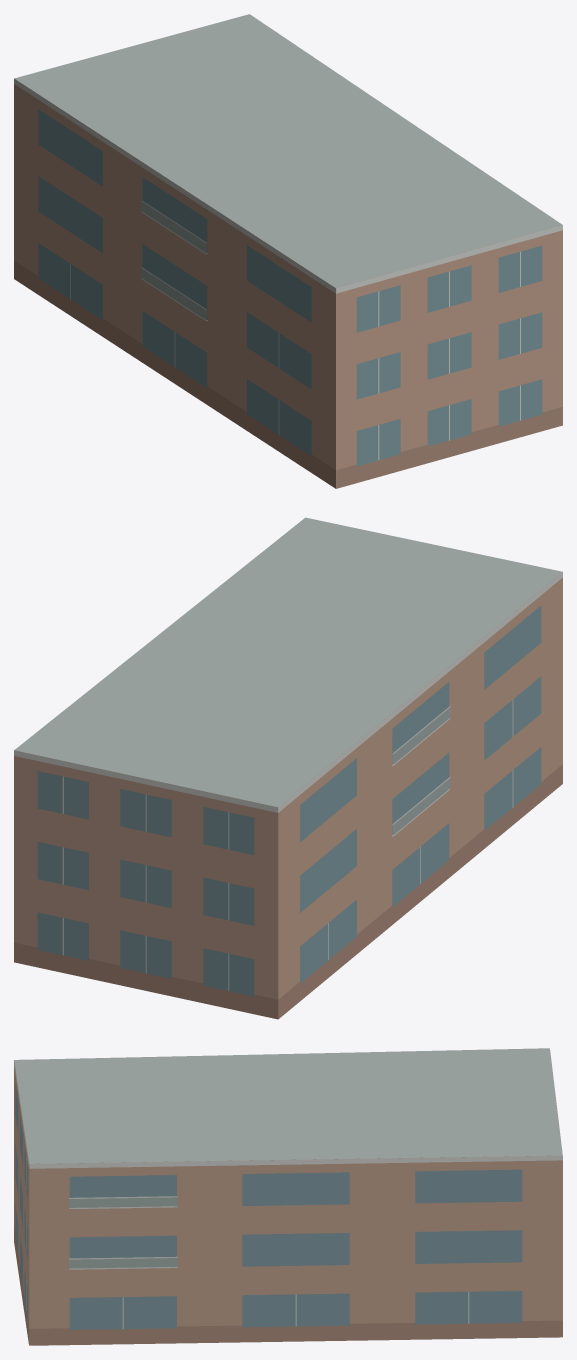
Rendered from survey-upis-32680430.glb.
The picture shows the model from 3 angles, top to bottom: view 1: azimuth 30°, elevation 25°; view 2: azimuth 150°, elevation 25°; view 3: azimuth 270°, elevation 25°; orthographic projection. The views are drawn at different scales.
Parts seen in each view (by area): view 1: survey-upis-32680430.tmp; view 2: survey-upis-32680430.tmp; view 3: survey-upis-32680430.tmp.
Part boxes in pixels (box(x1,y1,x2,y2)): survey-upis-32680430.tmp: box(14, 14, 562, 488); survey-upis-32680430.tmp: box(14, 517, 562, 1019); survey-upis-32680430.tmp: box(14, 1048, 562, 1345).
Size of the model in its own units: 12.5 by 9.15 by 25.04.
